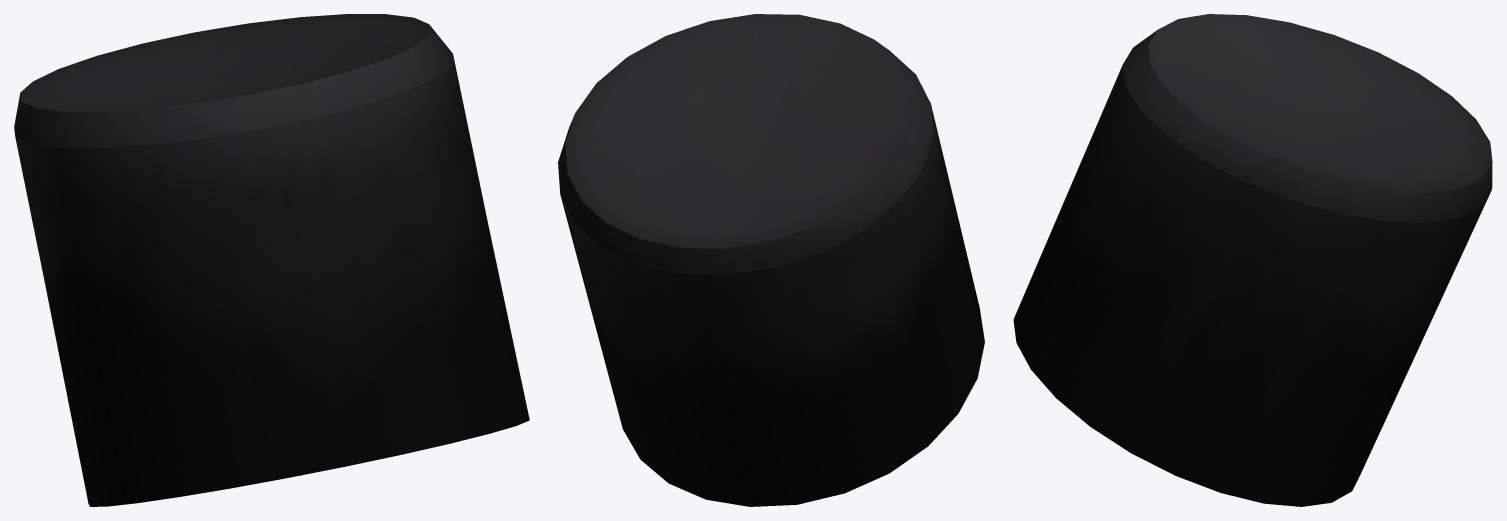
The model's file is button_system.obj.
The picture shows the model from 3 angles, left to right: view 1: azimuth 30°, elevation 25°; view 2: azimuth 150°, elevation 25°; view 3: azimuth 270°, elevation 25°; orthographic projection. The views are drawn at different scales.
Visible parts, largest first — view 1: r_button_system; view 2: r_button_system; view 3: r_button_system.
Boxes of the visible parts, box(x1,y1,x2,y2) form: r_button_system: box(14, 14, 529, 506); r_button_system: box(558, 14, 984, 506); r_button_system: box(1013, 14, 1492, 506).
Size of the model in its own units: 0.00608 by 0.00721 by 0.00757.
Materials: 1 (1 with a texture image).
